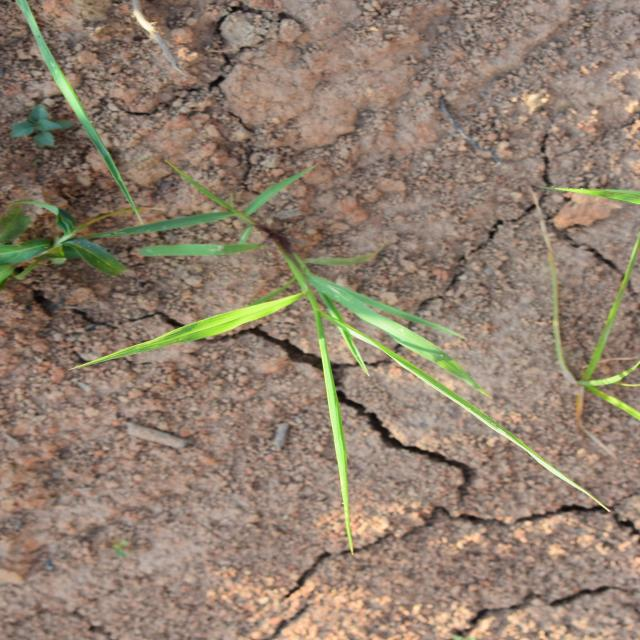green_foxtail: (150, 170, 463, 474)
